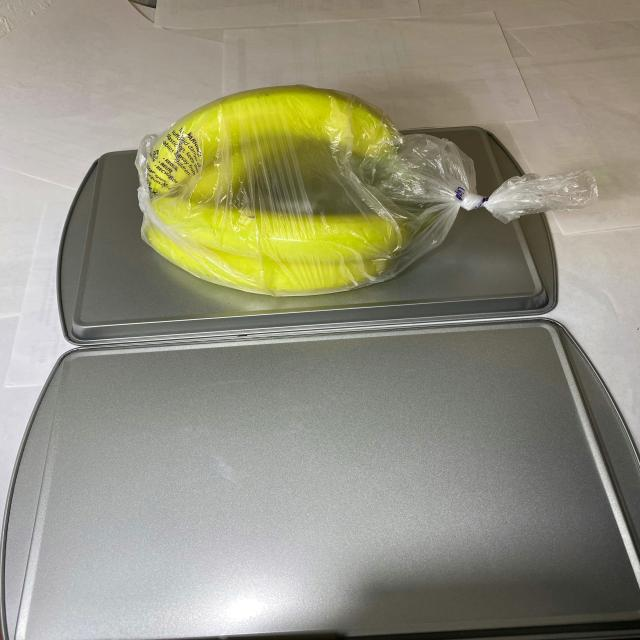banana: (106, 80, 446, 300)
